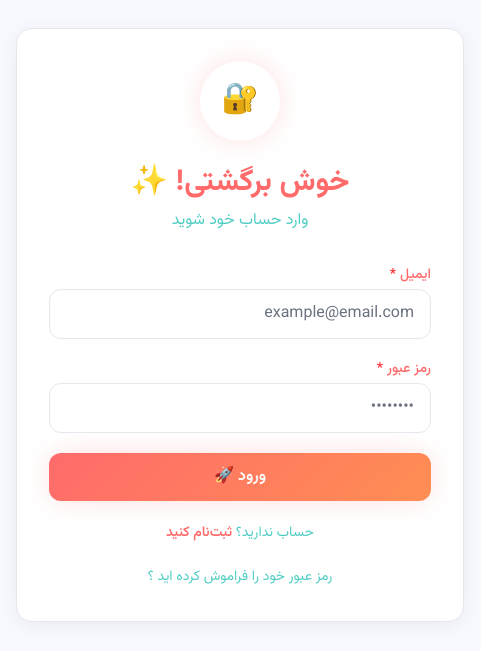
LoginPage / LoginForm › validation › shows a min-length error for short passwords
Type "test@example.com" into the field with placeholder "example@email.com" at (240, 314), box left=49, top=289, right=431, bottom=339
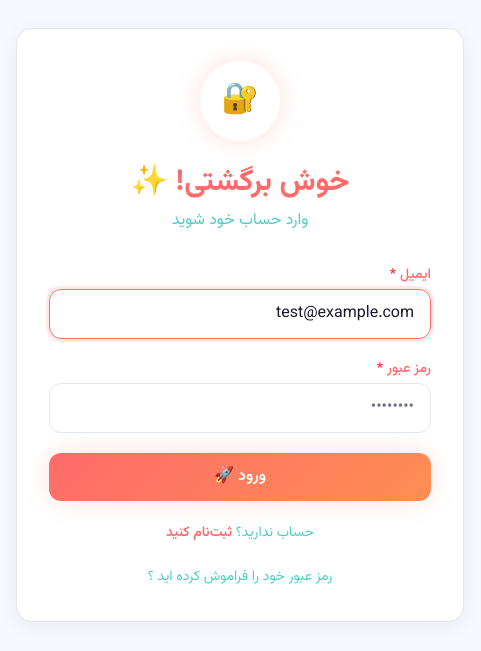
Type "123" into the password field with placeholder "••••••••" at (240, 408), box left=49, top=383, right=431, bottom=433
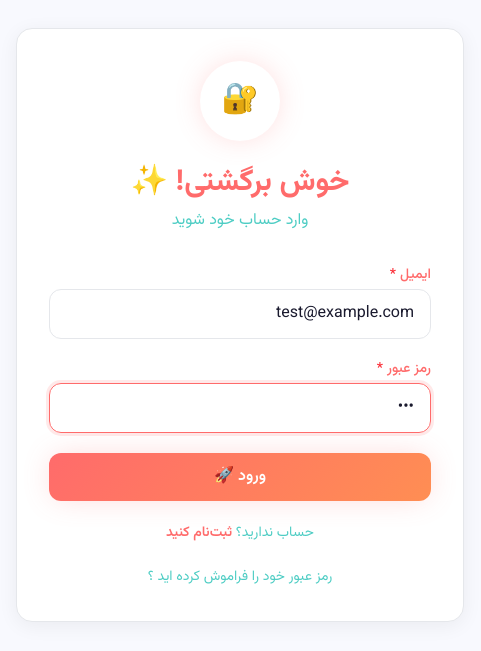
Click the button "ورود 🚀" at (240, 477), box left=49, top=453, right=431, bottom=501
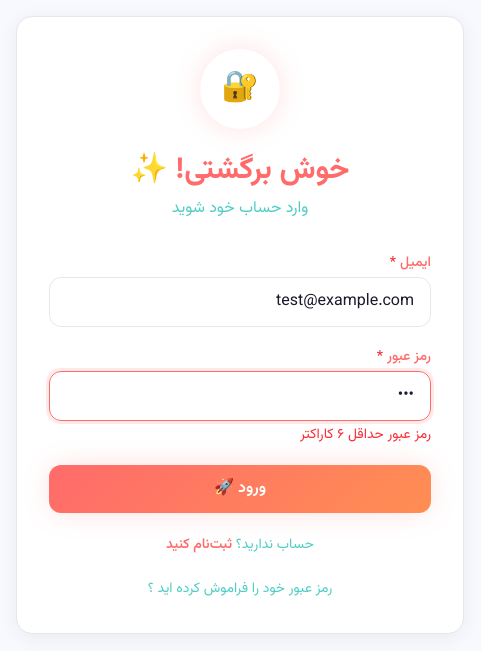
Result: the text "رمز عبور حداقل ۶ کاراکتر" is shown at left=300, top=424, right=431, bottom=446
